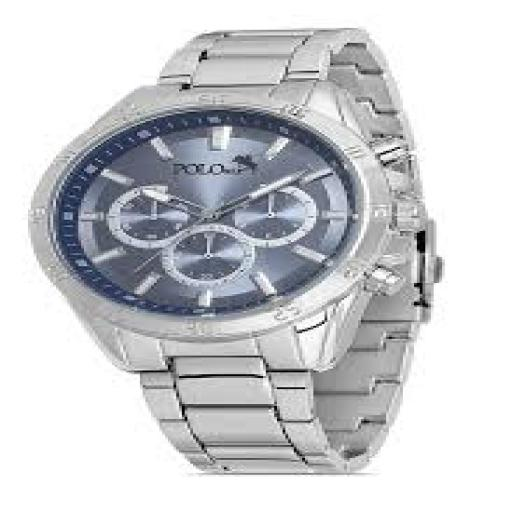KolSaati: (6, 3, 460, 480)
